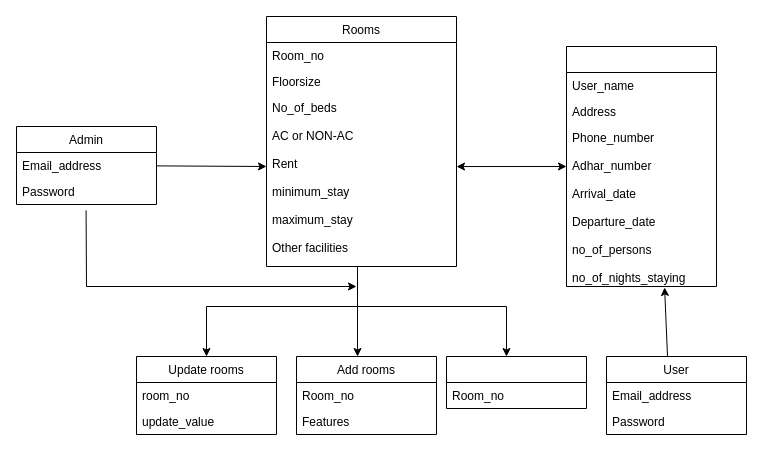
Some shapes in this 763 by 451 pixel diagram are drawn without their labels. Here are the shapes that lost their labels. From the top down, the box of each, then its label:
(566, 46, 716, 286): Booking
(446, 356, 586, 408): Delete rooms
